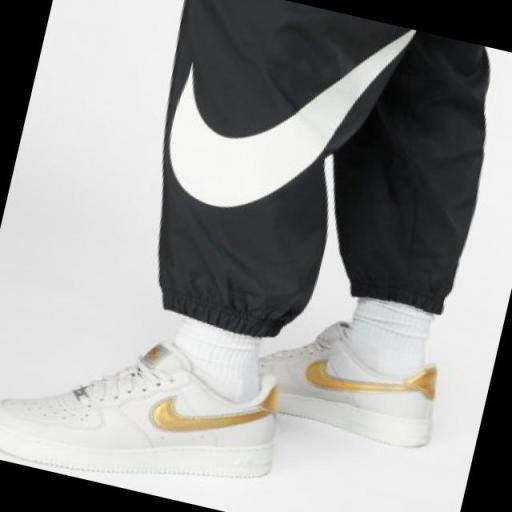Nike: (144, 386, 270, 453)
